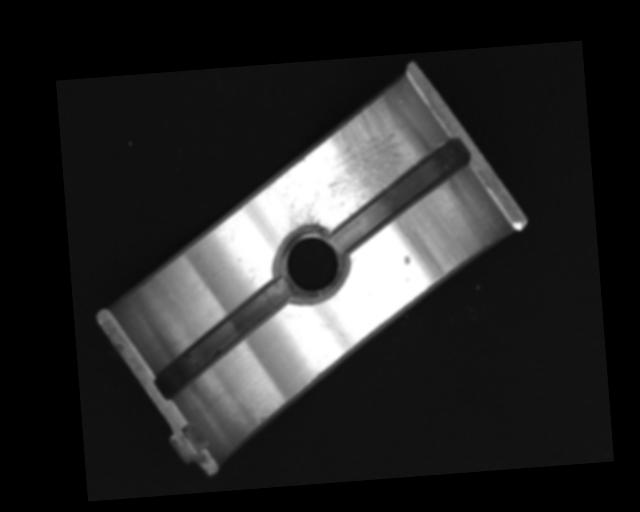bruise: (403, 253, 411, 265)
gap: (147, 276, 301, 401), (326, 136, 474, 252)
hole: (270, 222, 351, 302)
scratch: (272, 95, 411, 238)
